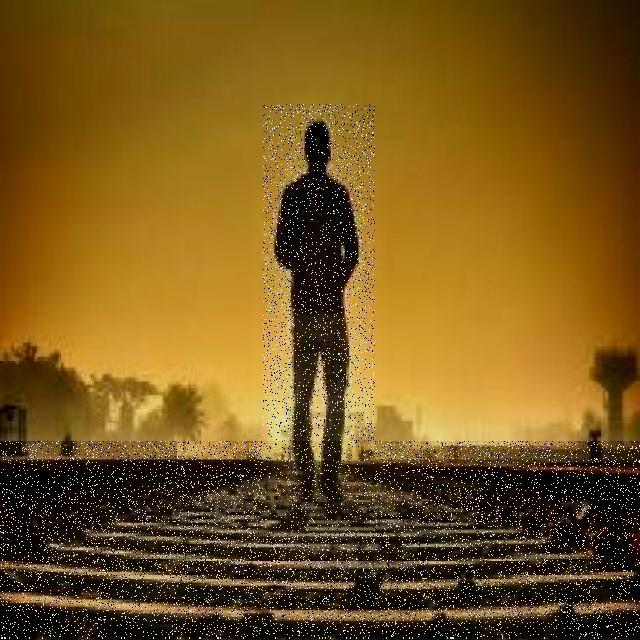rail: (1, 443, 640, 639)
